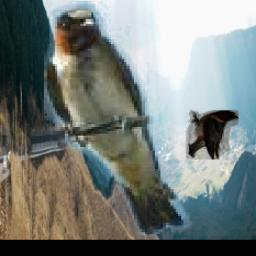Swallow: (45, 2, 191, 236), (186, 110, 238, 160)
